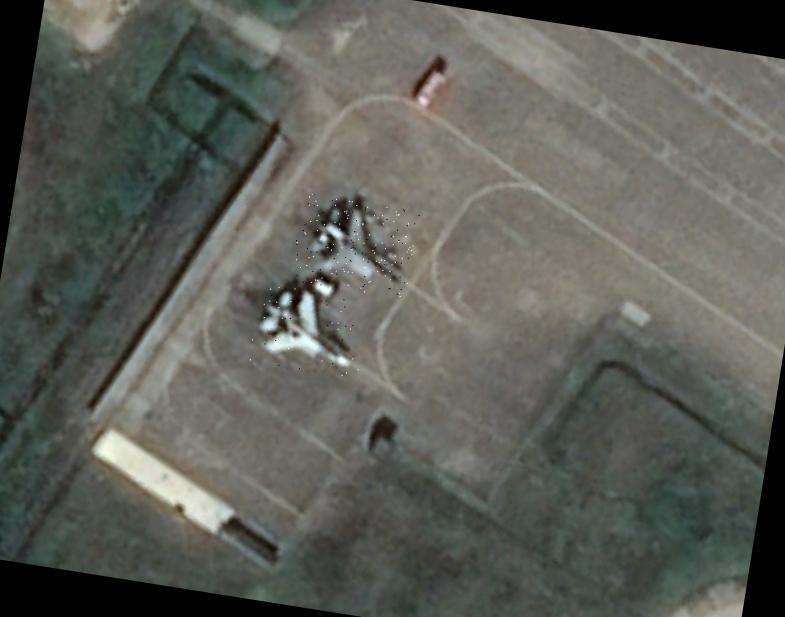A1: (289, 191, 420, 298), (247, 281, 369, 377)
